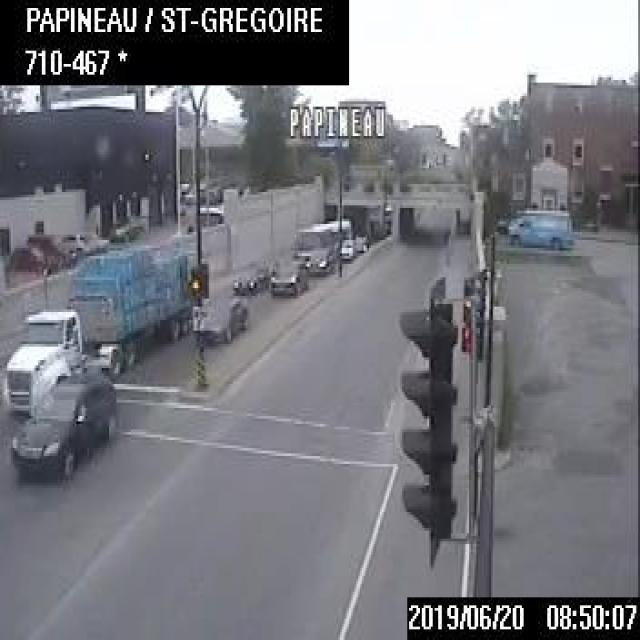vehicle: (2, 241, 195, 405), (10, 368, 121, 483), (506, 205, 575, 248), (198, 295, 246, 342), (292, 225, 336, 273), (28, 232, 76, 266), (268, 257, 308, 297), (232, 258, 274, 294), (322, 216, 352, 257), (8, 245, 48, 274), (105, 216, 144, 240), (58, 231, 85, 252), (352, 231, 368, 251), (339, 238, 354, 258)
